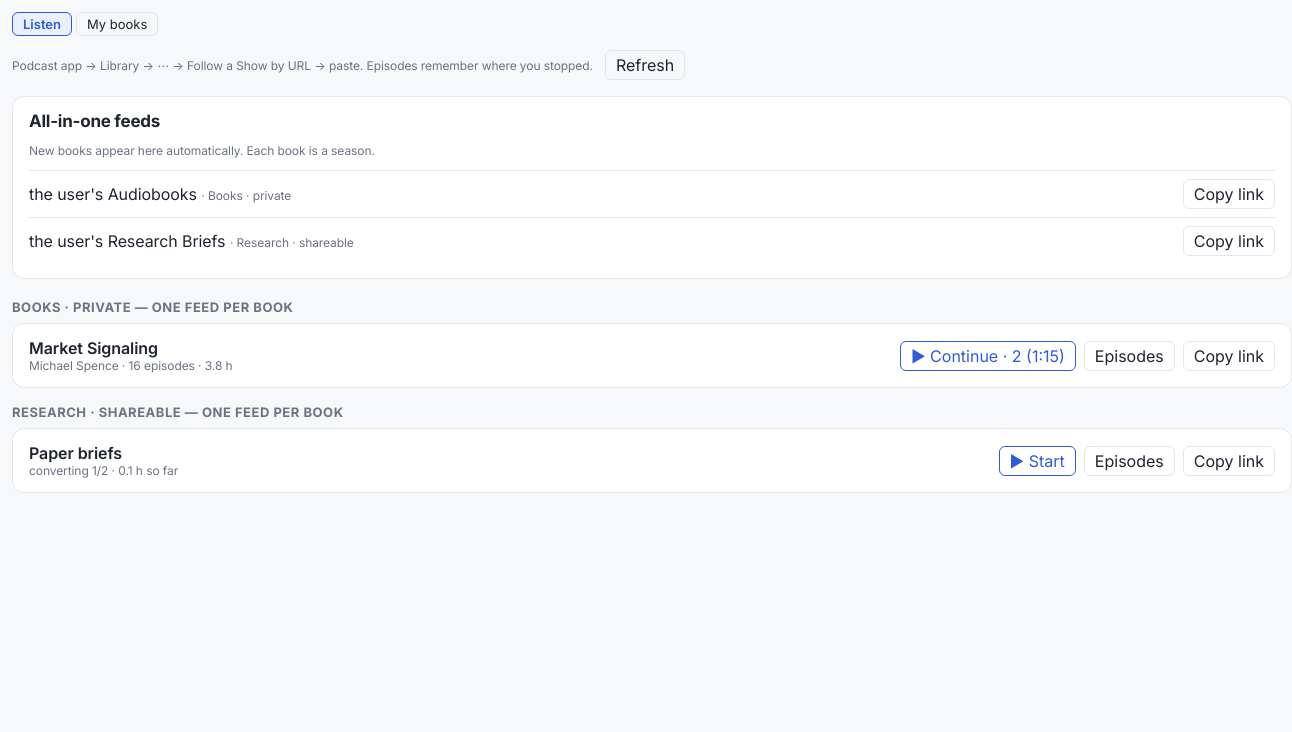
Test: Audiobooks › continues where you stopped and lists episodes
Later steps or results of the test are not shown.
What coordinates should you click on to do the following:
click the button "▶ Continue · 2 (1:15)"
I would click on:
 (988, 356)
Its box is [900, 340, 1076, 370].
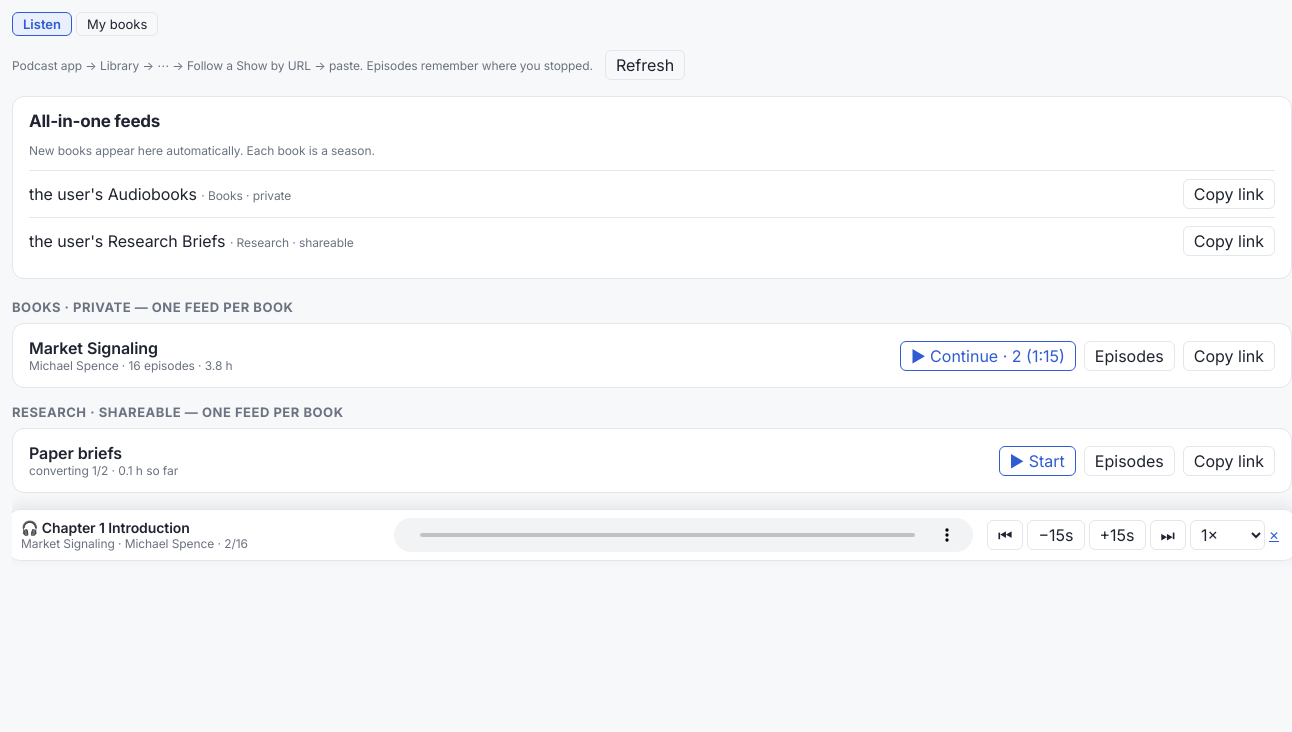
Now the text "🎧 Chapter 1 Introduction" is shown, box [21, 519, 190, 536]
